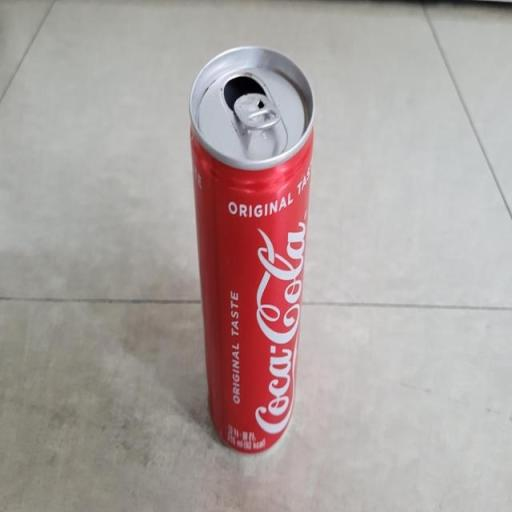metal: (180, 28, 324, 457)
